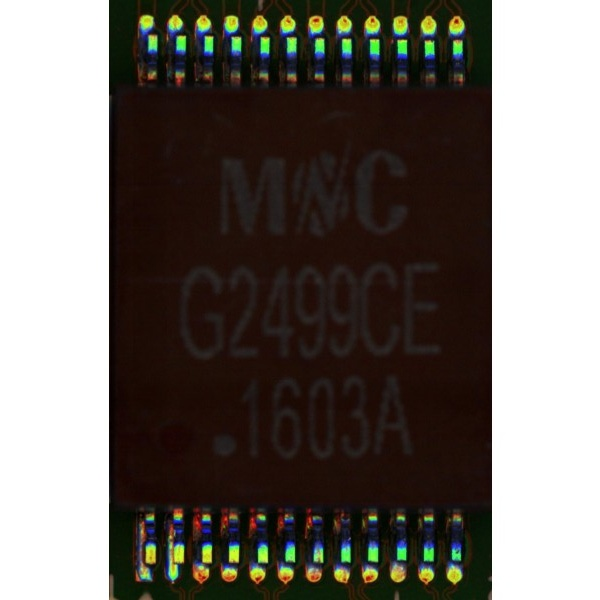Bad_qiaojiao: (137, 520, 144, 564), (167, 527, 173, 564)
